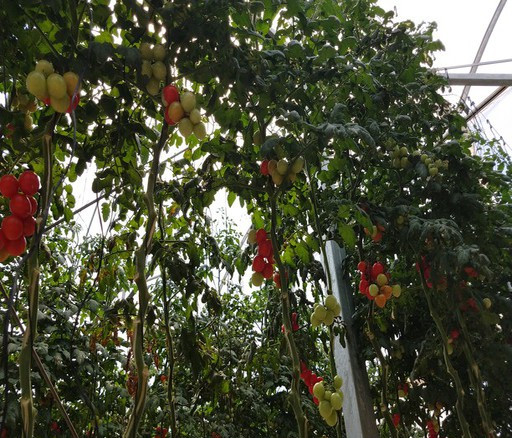green tomato bunch: (24, 59, 78, 115), (162, 86, 207, 138), (389, 146, 449, 177), (313, 375, 346, 428), (137, 44, 167, 97), (265, 155, 304, 186), (306, 297, 342, 324)
mixed tomato bunch: (356, 261, 403, 306)
red tomato bunch: (1, 169, 38, 261), (249, 229, 286, 290), (415, 250, 449, 288), (298, 366, 325, 406), (423, 421, 446, 438)
